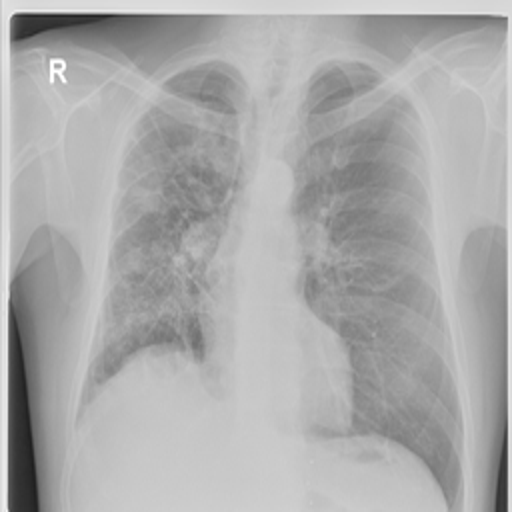TB: (127, 171, 201, 294)
